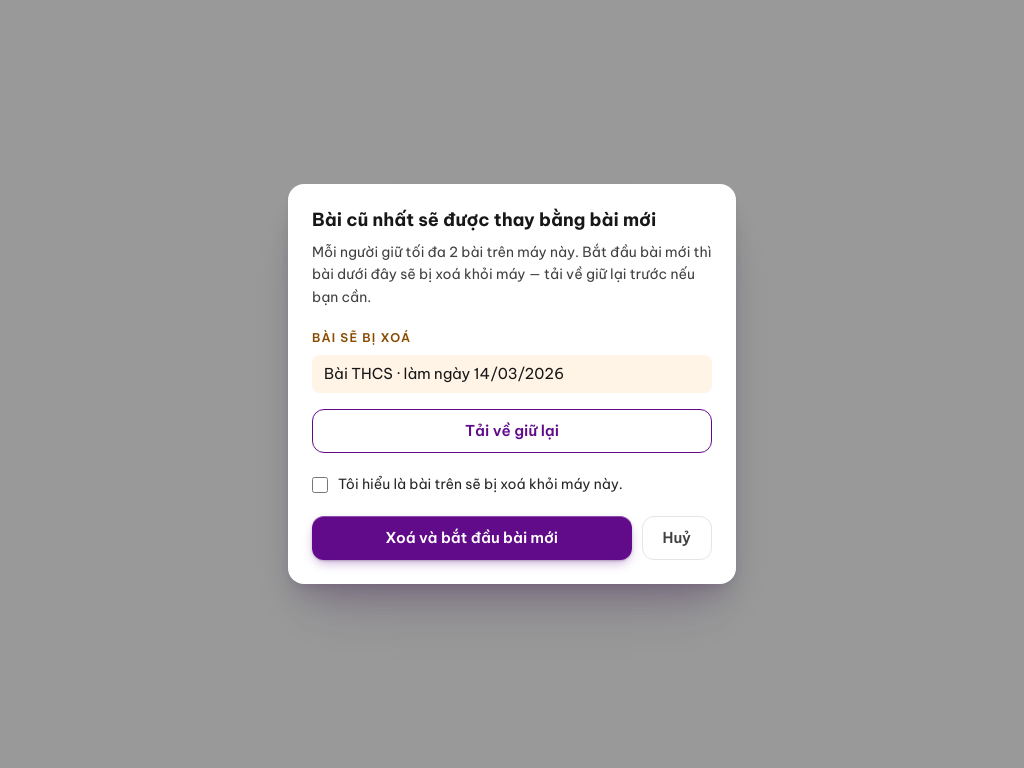
it: 🔴 hộp thoại — ba thứ bắt buộc › 🔴 chưa tick xác nhận thì KHÔNG cho đi tiếp
Click the button "Xoá và bắt đầu bài mới".
click(472, 538)  # box [312, 516, 632, 560]
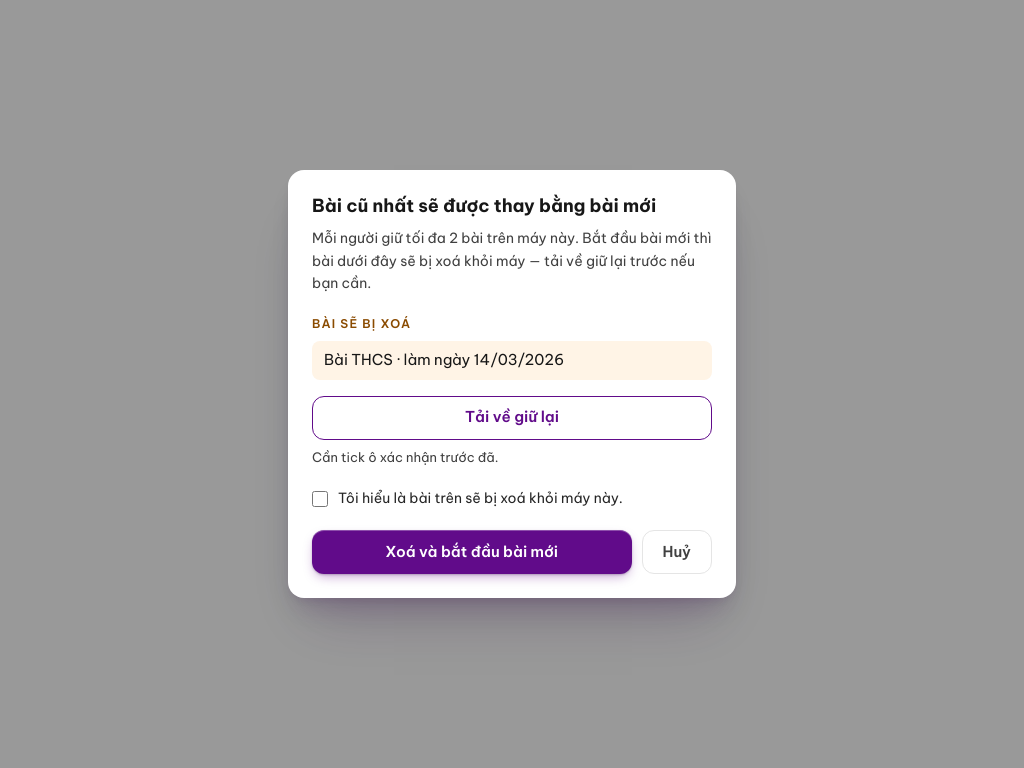
Expected: the message reads "Cần tick ô xác nhận trước đã.", [312, 449, 498, 465]
